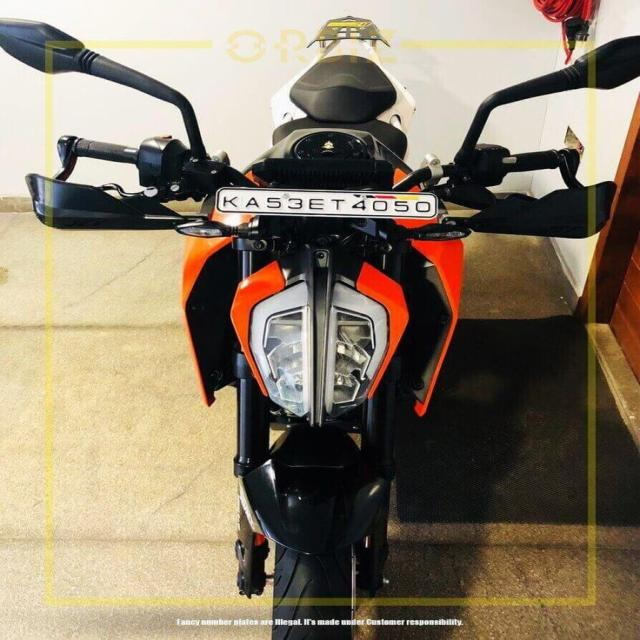license_plate: (214, 186, 438, 219)
